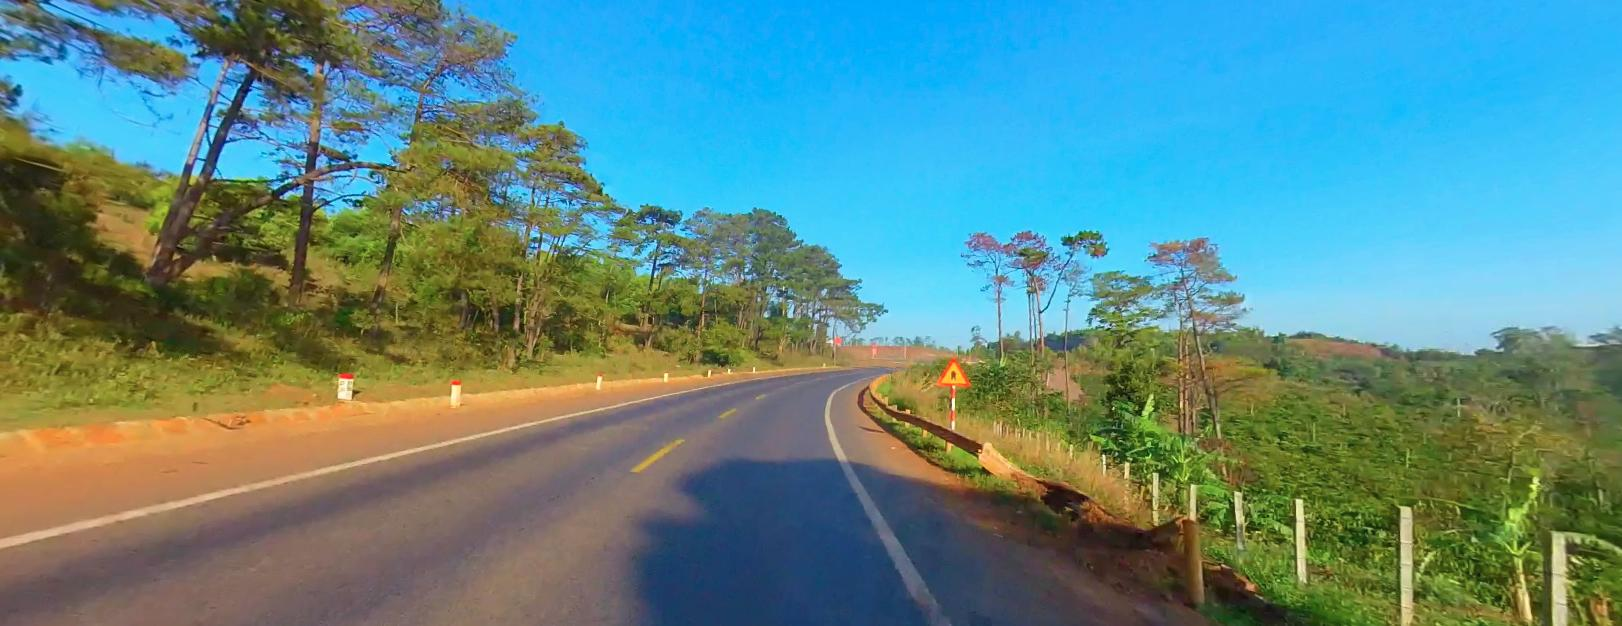Nguy hiem: (935, 355, 972, 385)
